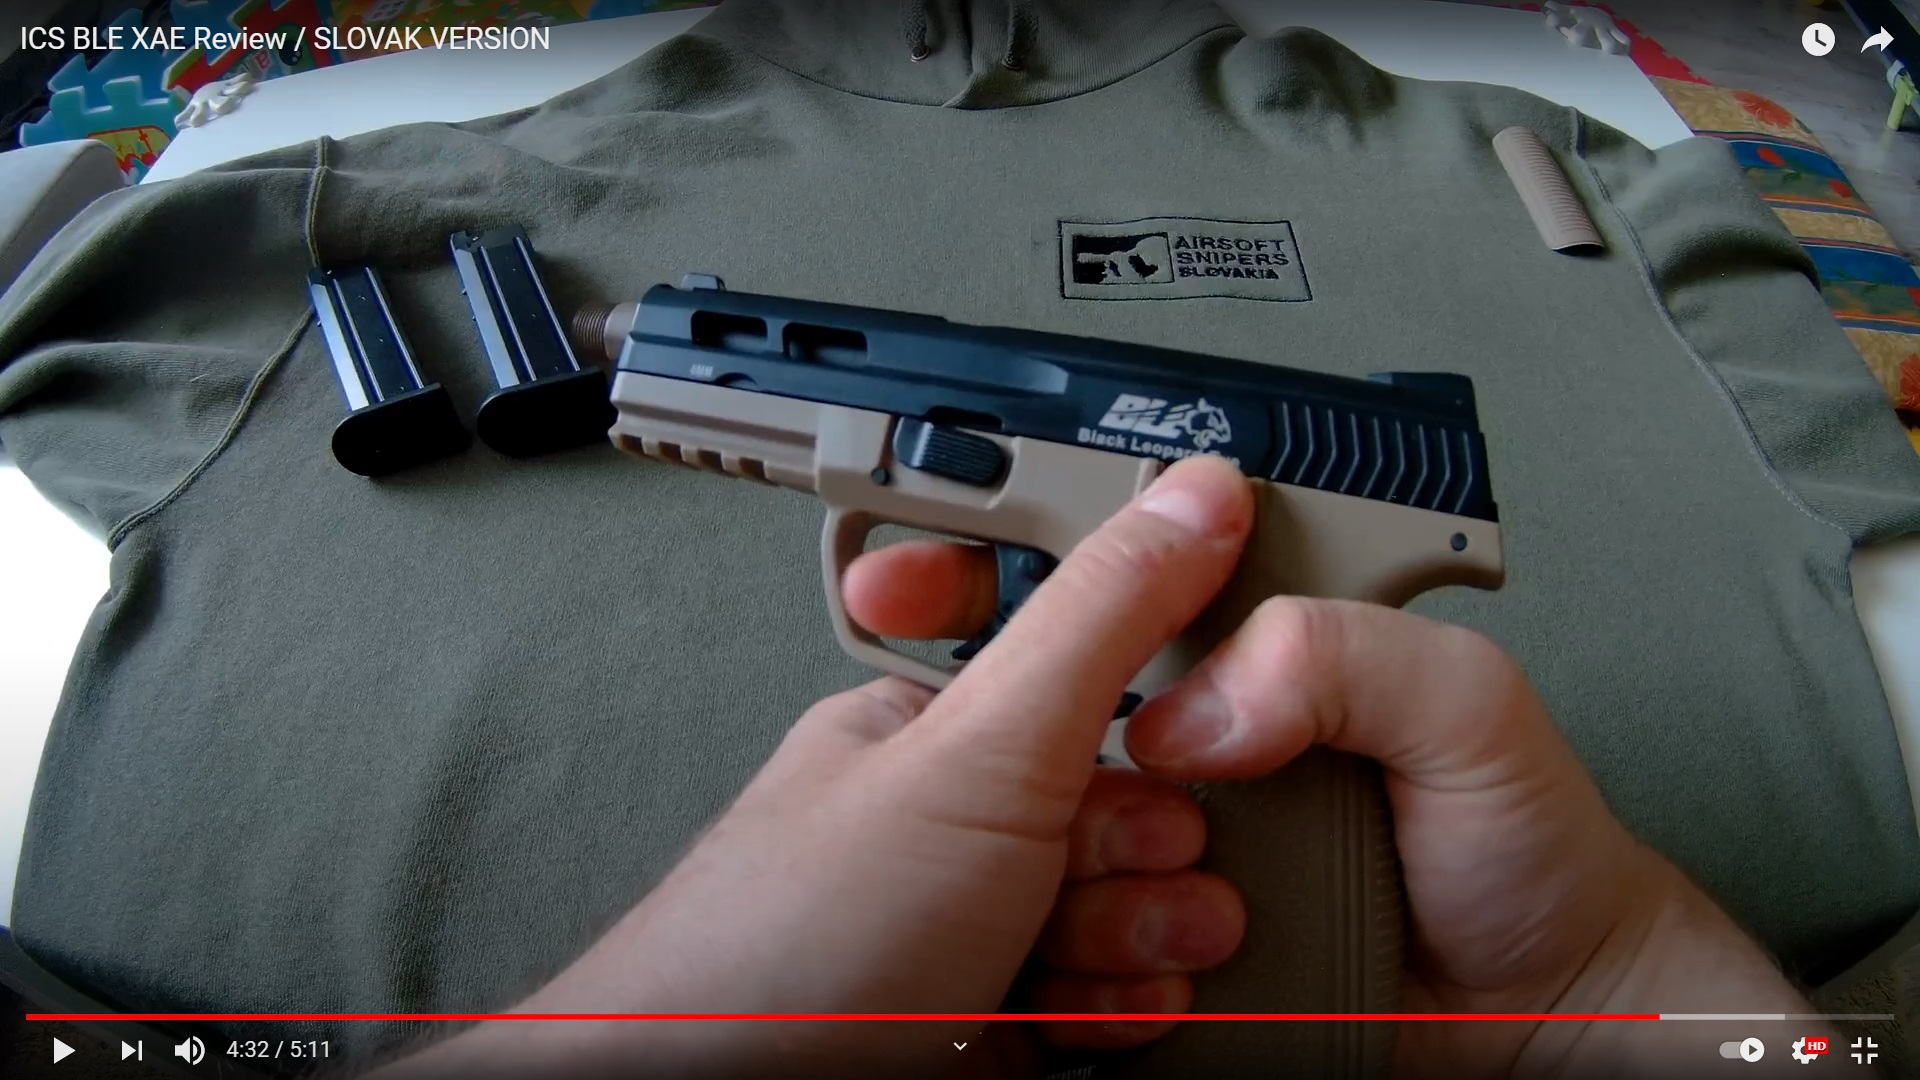asg_ics_ble_xae: (579, 276, 1538, 1009)
